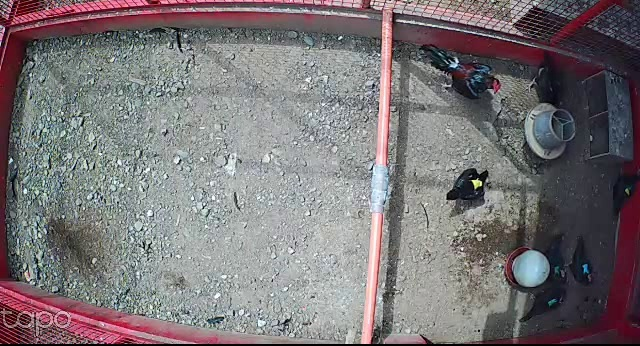Chicken: (606, 161, 640, 235), (525, 50, 564, 107), (517, 286, 566, 324), (564, 235, 597, 290), (444, 167, 493, 204), (541, 236, 574, 286)
Drinker: (503, 247, 552, 291)
Feeder: (522, 101, 578, 161)
Rooster: (420, 42, 505, 101)
Saddle_Color_Blue: (582, 261, 590, 274)
Saddle_Color_Yellow: (471, 177, 482, 190)
Saddle_Color_YellowGreen: (626, 186, 630, 195)
